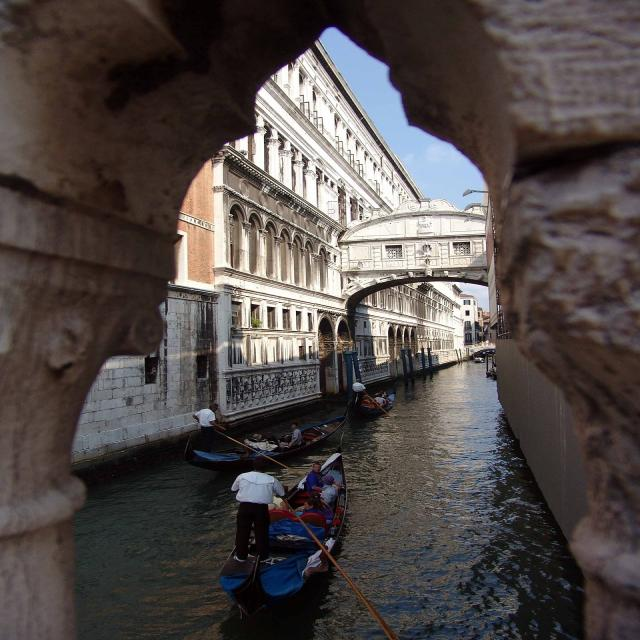boat: (222, 418, 362, 620), (177, 405, 358, 465)
